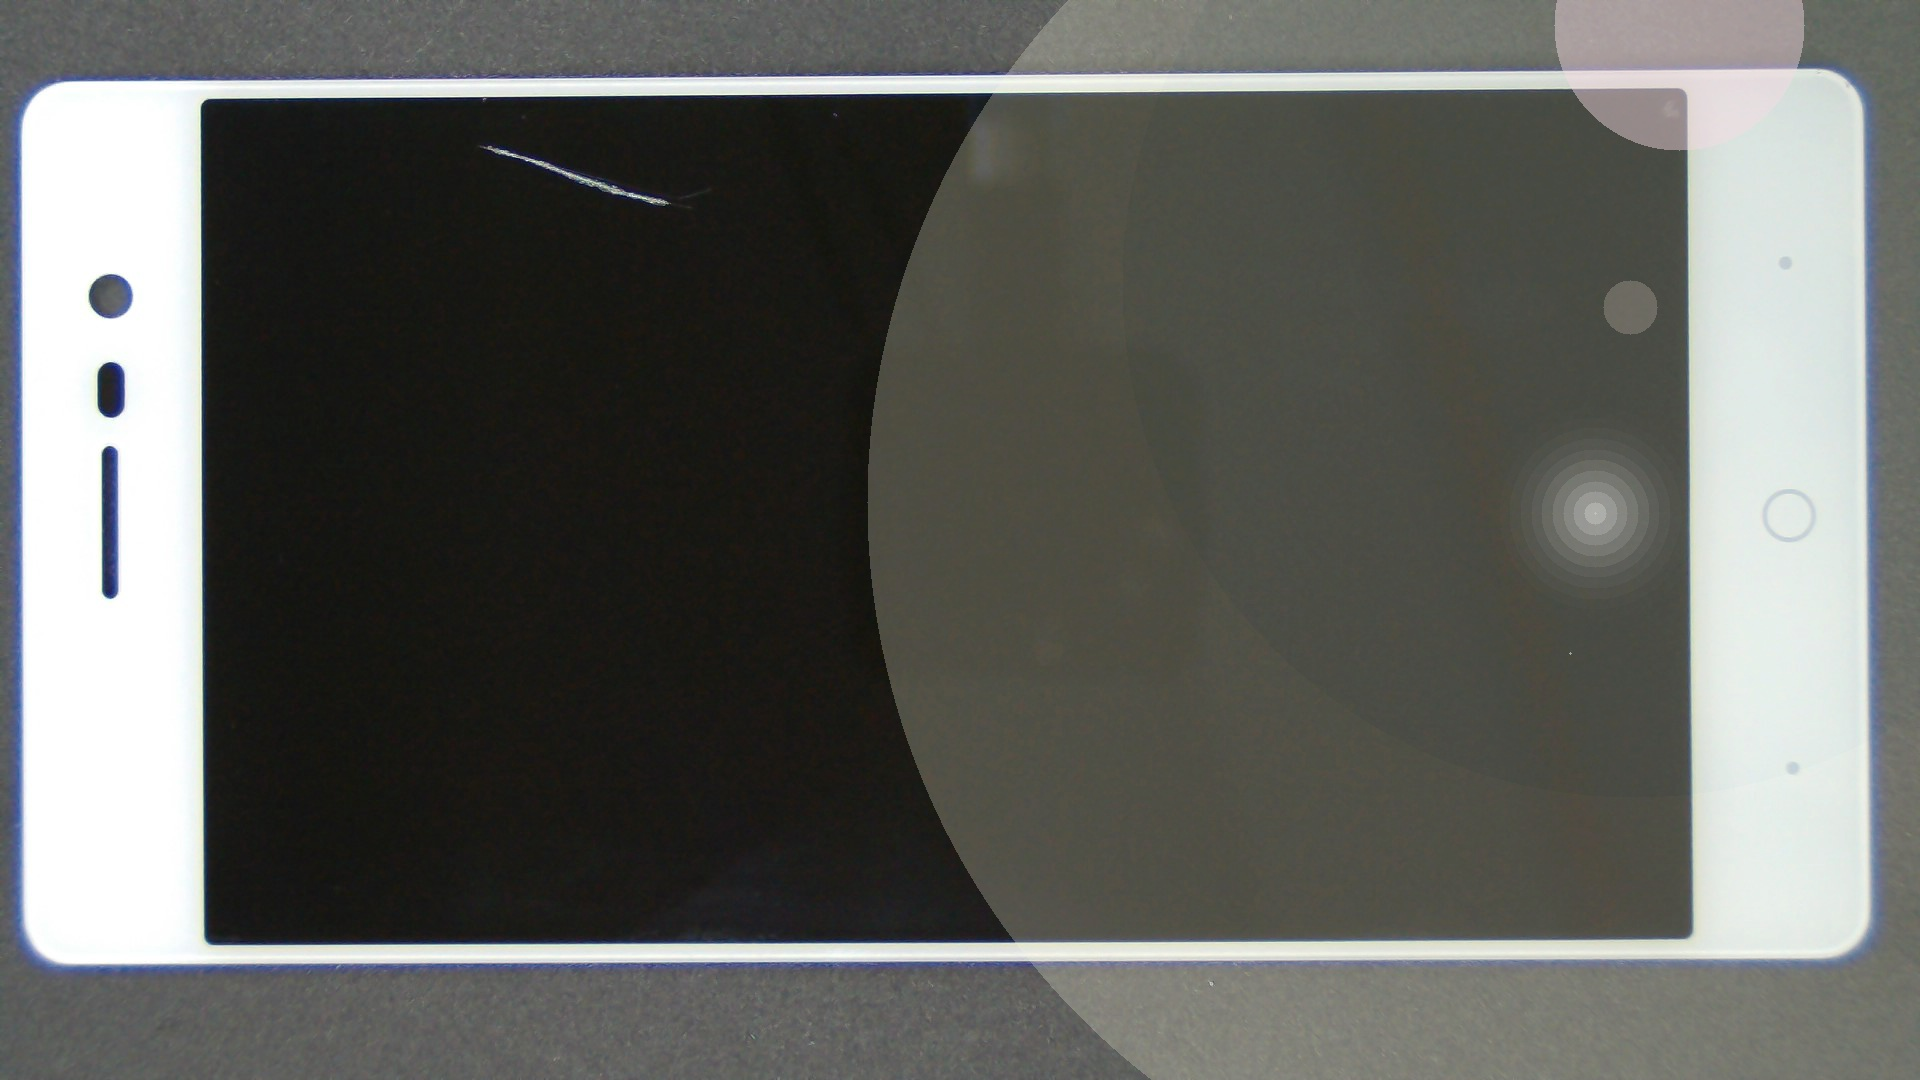oil: (240, 71, 719, 218)
